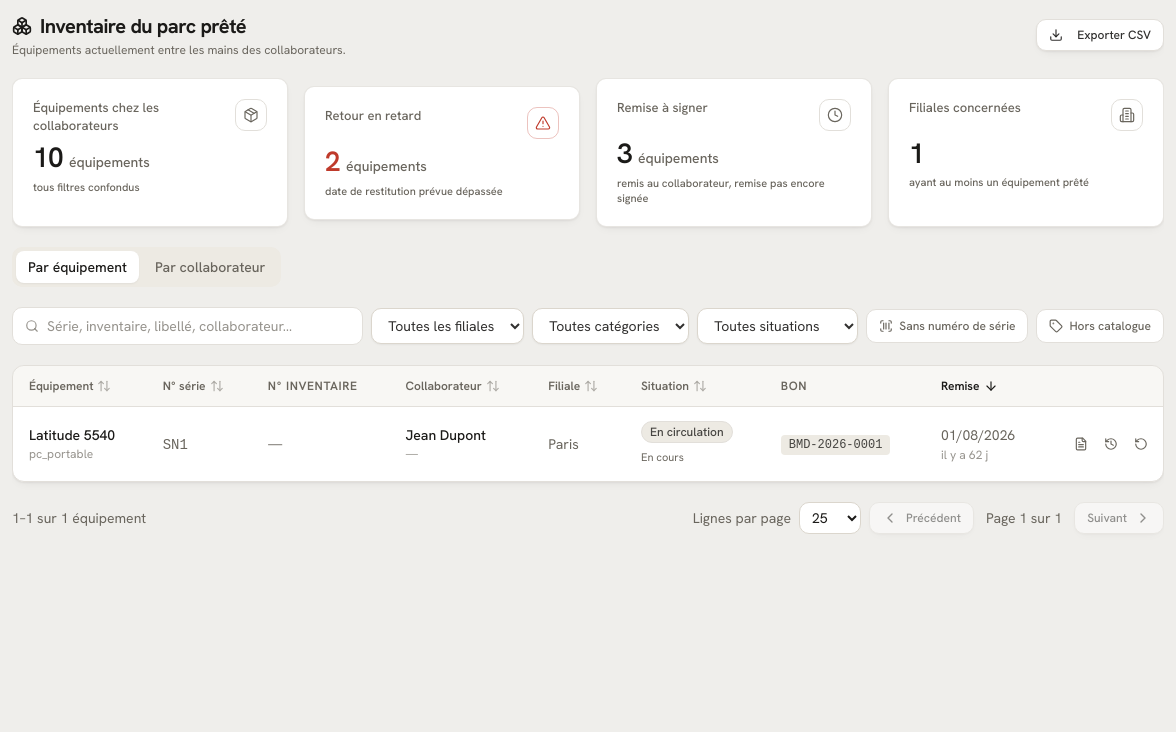
InventairePage › bascule vers la vue « Par collaborateur » au clic et charge le regroupement
The image size is (1176, 732).
Expected: the text "Jean Dupont" is shown, [406,426,486,444]
Click the tab "Par collaborateur" at (210, 267), box [143,251,277,283]
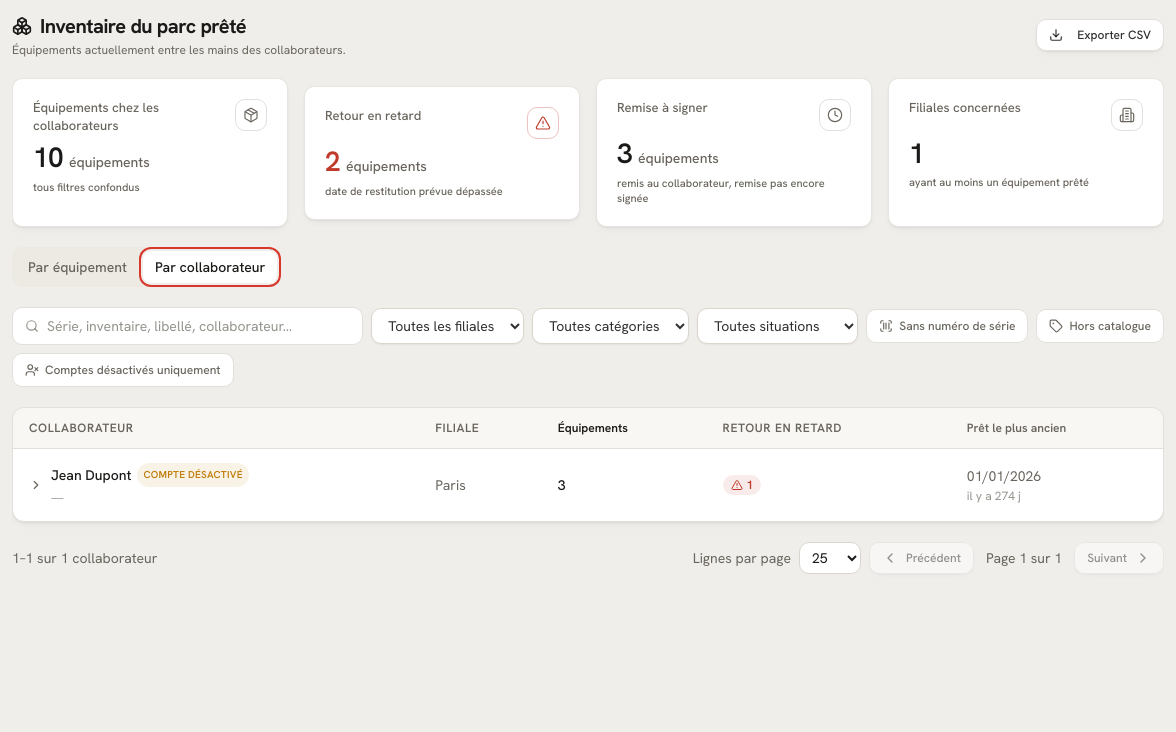
Expected: the button "Équipements" is shown, [558,420,628,436]
Expected: the column heading "Retour en retard" is shown, [707,408,951,449]
